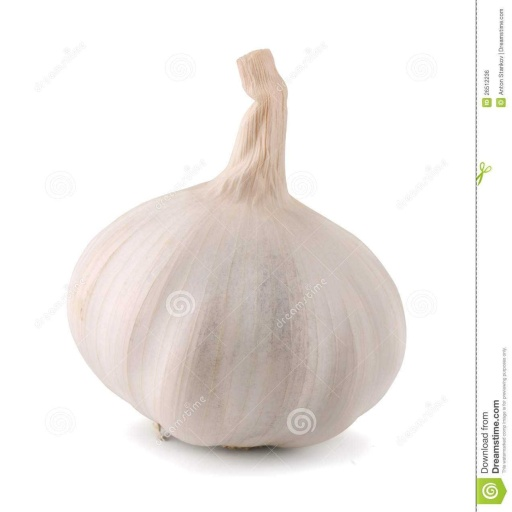Knoblauch: (67, 49, 408, 448)
